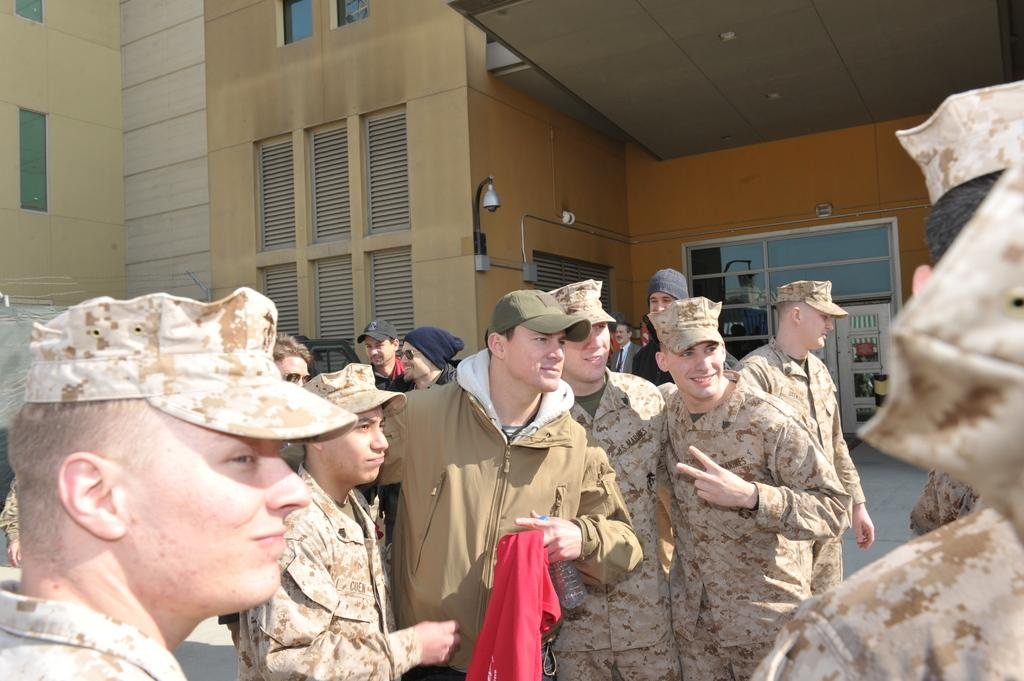Hat: (22, 285, 359, 441), (896, 74, 1022, 204), (298, 362, 404, 418), (648, 294, 724, 356), (485, 290, 591, 332), (549, 274, 617, 330), (776, 280, 847, 316), (356, 318, 398, 340)
